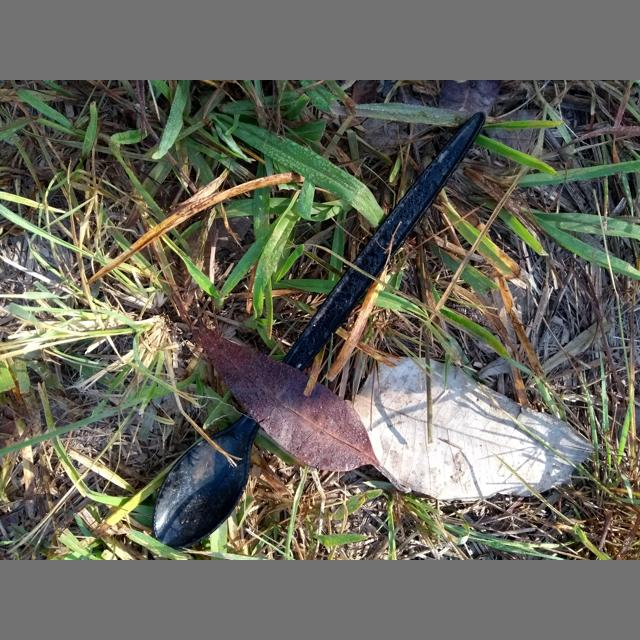litter: (152, 112, 486, 550)
